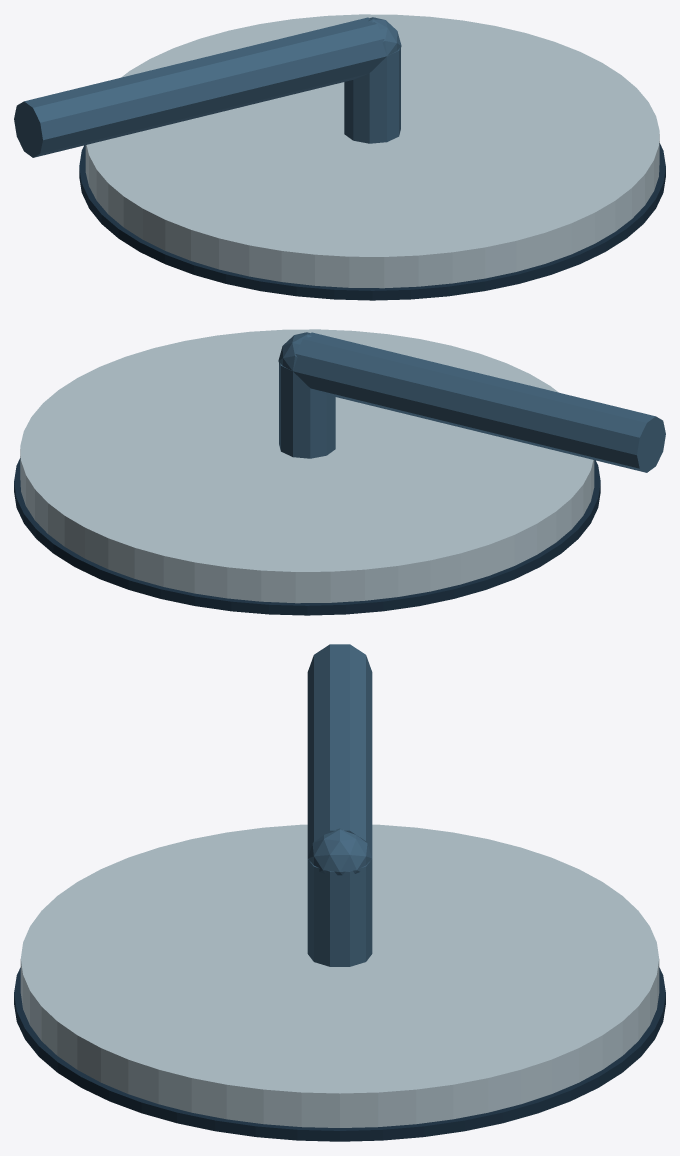
Rendered from 23_L72_PrecisionDepositionShowerhead.fbx.
The picture shows the model from 3 angles, top to bottom: view 1: azimuth 30°, elevation 25°; view 2: azimuth 150°, elevation 25°; view 3: azimuth 270°, elevation 25°; orthographic projection. The views are drawn at different scales.
Parts seen in each view (by area): view 1: PrecisionDepositionShowerhead; view 2: PrecisionDepositionShowerhead; view 3: PrecisionDepositionShowerhead.
Part boxes in pixels (box(x1,y1,x2,y2)): PrecisionDepositionShowerhead: box(14, 14, 665, 300); PrecisionDepositionShowerhead: box(14, 329, 665, 615); PrecisionDepositionShowerhead: box(14, 644, 665, 1141).
Bounding box in the file's own units: 226 × 56.9 × 192.
